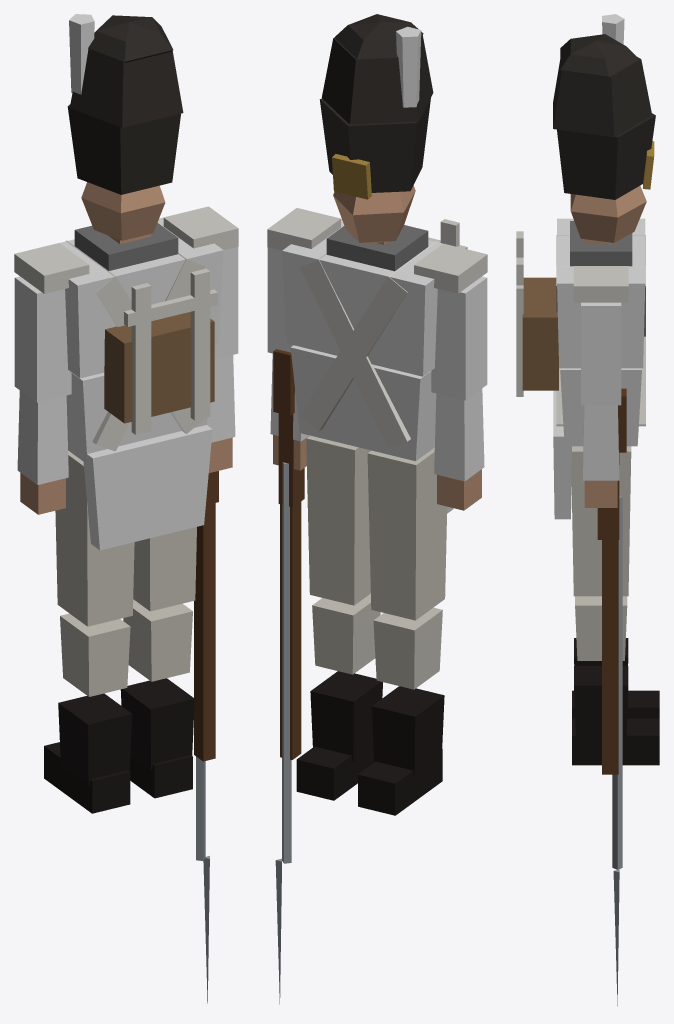
File: soldier_c19_grenadier_lod1.glb
The picture shows the model from 3 angles, left to right: view 1: azimuth 30°, elevation 25°; view 2: azimuth 150°, elevation 25°; view 3: azimuth 270°, elevation 25°; orthographic projection. The views are drawn at different scales.
Parts seen in each view (by area): view 1: c19_grenadier_lod1_static; view 2: c19_grenadier_lod1_static; view 3: c19_grenadier_lod1_static.
Boxes of the visible parts, <box> form: c19_grenadier_lod1_static: <box>14,14,238,1003</box>; c19_grenadier_lod1_static: <box>267,14,487,1004</box>; c19_grenadier_lod1_static: <box>516,14,659,1006</box>.
Bounding box in the file's own units: 0.58 × 2.82 × 0.392.
